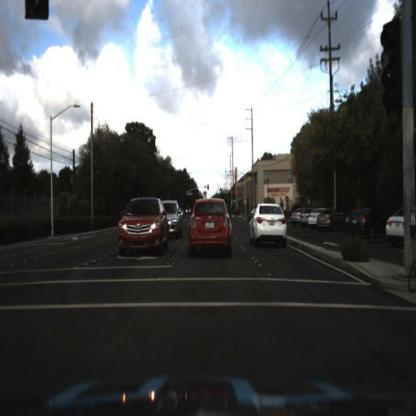car: (116, 191, 169, 258), (188, 196, 234, 261), (249, 199, 289, 251), (345, 206, 386, 237), (161, 196, 185, 243), (386, 207, 414, 243), (319, 206, 339, 230), (310, 204, 320, 229)
